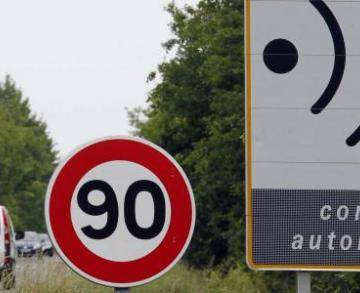Speed_limit_90km: (45, 135, 195, 287)
